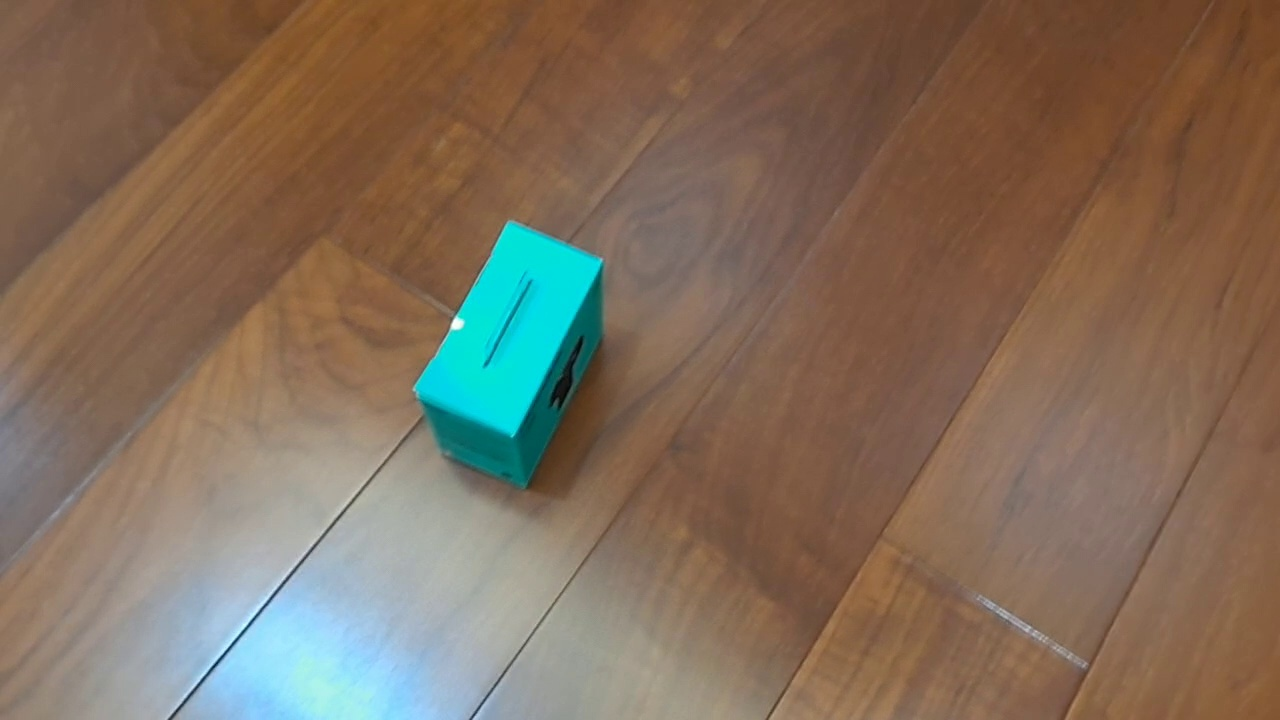webcam: (411, 218, 605, 491)
